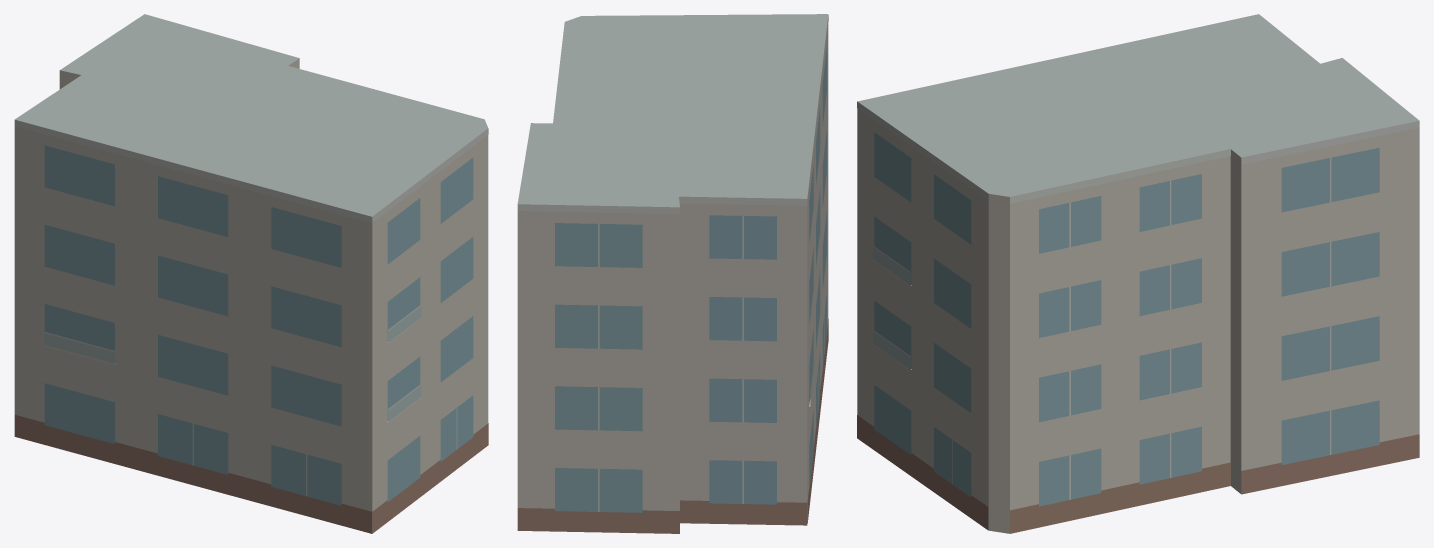
File: survey-upis-32695658.glb
The picture shows the model from 3 angles, left to right: view 1: azimuth 30°, elevation 25°; view 2: azimuth 150°, elevation 25°; view 3: azimuth 270°, elevation 25°; orthographic projection. The views are drawn at different scales.
Parts seen in each view (by area): view 1: survey-upis-32695658.tmp; view 2: survey-upis-32695658.tmp; view 3: survey-upis-32695658.tmp.
Part boxes in pixels (x1,y1,x2,y2): survey-upis-32695658.tmp: (14, 14, 488, 533); survey-upis-32695658.tmp: (517, 14, 828, 533); survey-upis-32695658.tmp: (857, 14, 1419, 533).
Bounding box in the file's own units: 13.66 × 11.72 × 17.74.
